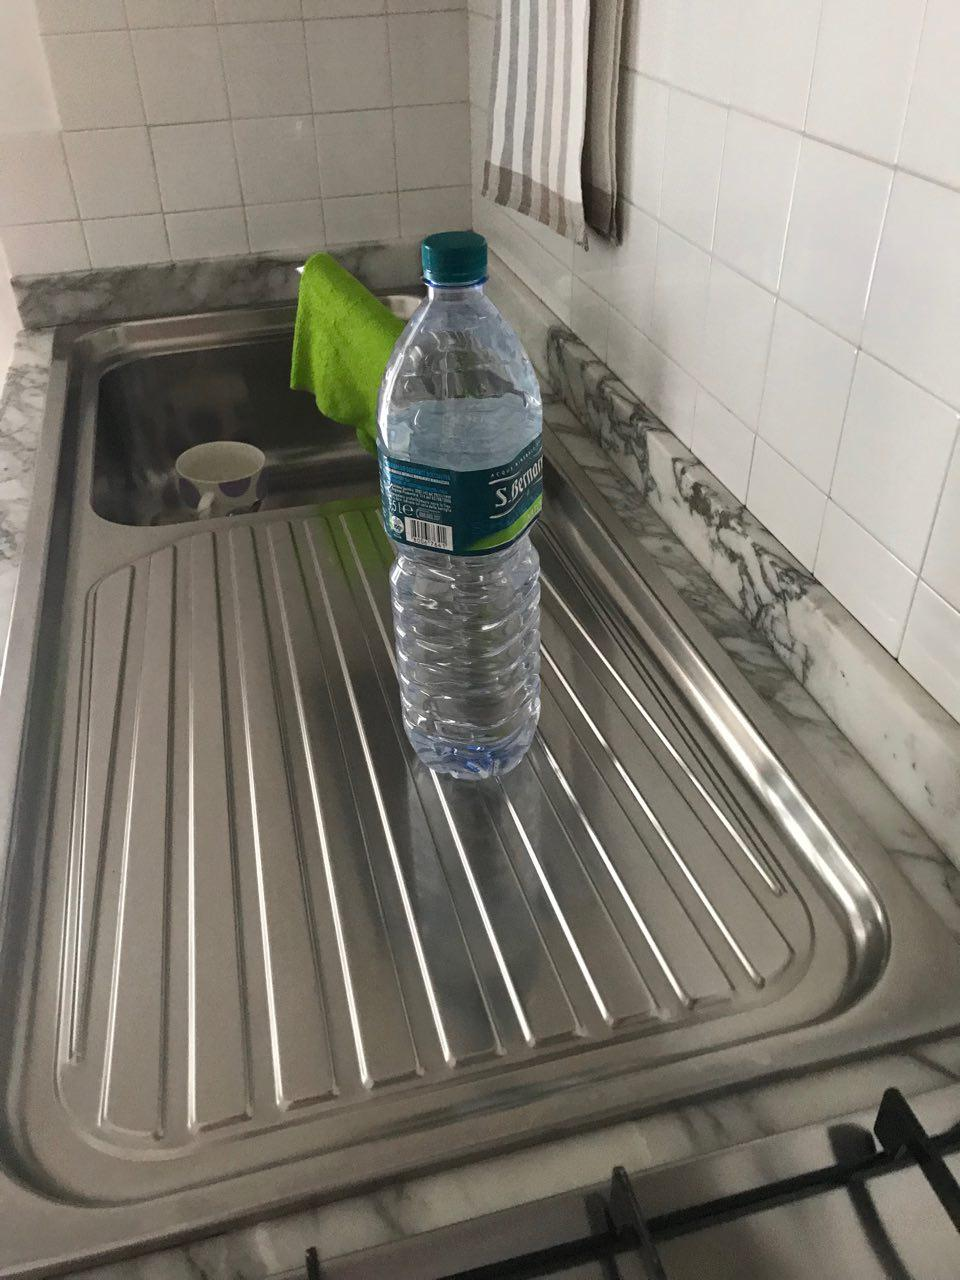san_bernardo: (376, 231, 544, 781)
